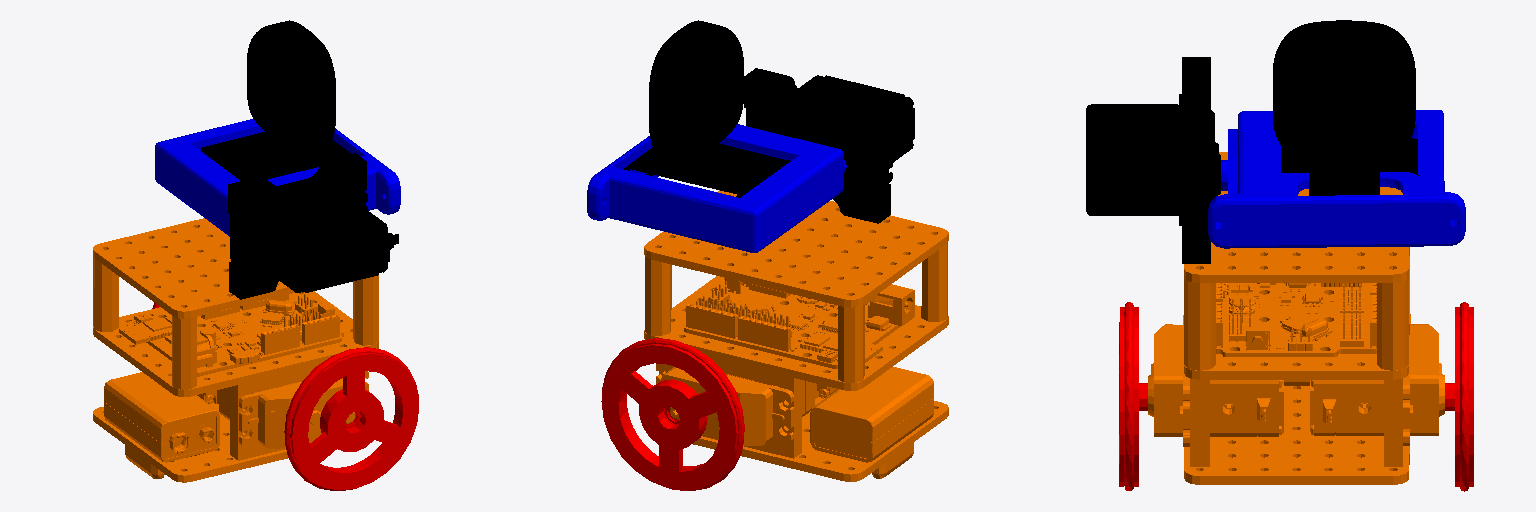
robot.urdf — cambot:
<!-- description of the CamBot robot, a robotics project for the UVic-UCC master in robotics first term -->
<robot name = "cambot">

	<!-- BASE-FOOTPRINT -->
	<!-- base_footprint is a fictitious link(frame) that is on the ground right below base_link origin, navigation stack depends on this frame -->
	<link name = "base_footprint"/>

	<joint name = "base_footprint_joint" type = "fixed">
		<parent link = "base_footprint"/>
		<child link = "base_link"/>
		<origin xyz = "0 0 0" rpy = "0 0 0"/>
	</joint>

	<!-- BASE-LINK -->
    <!--Actual body/chassis of the robot-->
	<link name = "base_link">
		<visual>
			<origin xyz = "0 0 0.12" rpy = "1.57 0 3.14"/>
			<geometry>
				<mesh filename = "package://cambot_description/meshes/cambot_base.stl"/>
			</geometry>
			<material name = "cambot/orange">
				<color rgba = "1.0 0.5 0.0 1.0"/>
			</material>
		</visual>
		<collision>
      		<origin xyz = "0 0 0.12" rpy = "1.57 0 3.14"/>
      		<geometry>
        		<mesh filename = "package://cambot_description/meshes/cambot_base_collision.stl" scale="0.01 0.01 0.01"/>
      		</geometry>
    	</collision>
		<inertial>
      		<origin rpy = "0 0 0" xyz = "-8.640e-3 236.599e-3 0.443e-3"/>
      		<mass value = "0.216"/>
      		<inertia ixx = "0.016258"
               ixy = "0.000432"
               ixz="-0.000049"
               iyy="0.019275"
               iyz="0.000048"
               izz="0.016834"/>
    	</inertial>
	</link>

	<joint name = "base_to_right_wheel" type = "continuous">
		<parent link = "base_link"/>
		<child link = "right_wheel_link"/>
		<origin xyz = "0.21 -0.50 0.28" rpy = "1.57 0 0"/>
		<axis xyz = "0 0 1"/>
	</joint>

	<joint name = "base_to_left_wheel" type = "continuous">
		<parent link = "base_link"/>
		<child link = "left_wheel_link"/>
		<origin xyz = "0.21 0.50 0.28" rpy = "-1.57 0 0"/>
		<axis xyz = "0 0 1"/>
	</joint>

	<joint name = "base_to_servo" type = "fixed">
		<parent link = "base_link" />
		<child link = "servo_link" />
		<origin xyz = "0.2 -0.21 1.035" rpy = "-1.57 0 0"/>
	</joint>	

	<!-- WHEEL-LINKS -->
    <!--Actual wheels of the robot-->
	<link name = "left_wheel_link">
		<visual>
			<origin xyz = "0 0 0.05" rpy = "0 -1.57 0" />
			<geometry>
				<mesh filename = "package://cambot_description/meshes/cambot_wheel.stl" />
			</geometry>
			<material name = "cambot/red">
				<color rgba = "1.0 0.0 0.0 1.0" />
			</material>
		</visual>
		<collision>
      		<origin xyz = "0 0 0.05" rpy = "0 -1.57 0" />
      		<geometry>
        		<mesh filename = "package://cambot_description/meshes/cambot_wheel_collision.stl" scale="0.01 0.01 0.01"/>
      		</geometry>
    	</collision>
		<inertial>
      		<origin rpy = "0 0 0" xyz = "-30.036e-3 0 0"/>
      		<mass value = "0.01311625"/>
      		<inertia ixx = "0.000481"
               ixy = "0.000000"
               ixz="0.000000"
               iyy="0.000244"
               iyz="0.000000"
               izz="0.000244"/>
    	</inertial>
	</link>

	<link name = "right_wheel_link">
		<visual>
			<origin xyz = "0 0 0.05" rpy = "0 -1.57 0" />
			<geometry>
				<mesh filename = "package://cambot_description/meshes/cambot_wheel.stl" />
			</geometry>
			<material name = "cambot/red">
				<color rgba = "1.0 0.0 0.0 1.0" />
			</material>
		</visual>
		<collision>
      		<origin xyz = "0 0 0.05" rpy = "0 -1.57 0" />
      		<geometry>
        		<mesh filename = "package://cambot_description/meshes/cambot_wheel_collision.stl" scale="0.01 0.01 0.01"/>
      		</geometry>
    	</collision>
		<inertial>
      		<origin rpy = "0 0 0" xyz = "-30.036e-3 0 0"/>
      		<mass value = "0.01311625"/>
      		<inertia ixx = "0.000481"
               ixy = "0.000000"
               ixz="0.000000"
               iyy="0.000244"
               iyz="0.000000"
               izz="0.000244"/>
    	</inertial>
	</link>

	<!-- SERVO-LINK -->
    <!--Actual servo of the robot responsible of the movement of the camera-->
	<link name = "servo_link">
		<visual>
			<origin xyz = "0 0 0" rpy = "0 0 3.14" />
			<geometry>
				<mesh filename = "package://cambot_description/meshes/cambot_servo.stl" />
			</geometry>
			<material name = "cambot/black">
				<color rgba = "0.0 0.0 0.0 1.0" />
			</material>
		</visual>
		<collision>
      		<origin xyz = "0 0 0" rpy = "0 0 3.14" />
      		<geometry>
        		<mesh filename = "package://cambot_description/meshes/cambot_servo_collision.stl" scale="0.01 0.01 0.01"/>
      		</geometry>
    	</collision>
		<!-- <inertial>
      		<origin rpy = "0 0 0" xyz = "105.286-3 -0.010e-3 -208.732e-3"/>
      		<mass value = "0.056861"/>
      		<inertia ixx = "0.001002"
               ixy = "0.000000"
               ixz="0.000013"
               iyy="0.001521"
               iyz="0.000000"
               izz="0.001247"/>
    	</inertial-->
	</link>

	<joint name = "servo_to_camera_support" type = "revolute">
		<limit effort="10.0" lower="-0.4" upper="0.4" velocity="0.5"/>
		<parent link = "servo_link" />
		<child link = "camera_support_link" />
		<origin xyz = "0 0 0" rpy = "0 0 0" />
		<axis xyz = "0 0 1" />
	</joint>

	<!-- CAMERA-SUPPORT-LINK -->
	<!-- Actual camera support coupled to the servo -->
	<link name = "camera_support_link">
		<visual>
			<origin xyz = "0 0 0" rpy = "0 -1.57 3.14" />
			<geometry>
				<mesh filename = "package://cambot_description/meshes/cambot_camera_support.stl" />
			</geometry>
			<material name = "cambot/blue">
				<color rgba = "0.0 0.0 255.0 1.0" />
			</material>
		</visual>
		<collision>
      		<origin xyz = "0 0 0" rpy = "0 -1.57 3.14" />
      		<geometry>
        		<mesh filename = "package://cambot_description/meshes/cambot_camera_support_collision.stl" scale="0.01 0.01 0.01"/>
      		</geometry>
    	</collision>
		<inertial>
      		<origin rpy = "0 0 0" xyz = "296.718e-3 -2.503e-3 -9.185e-3"/>
      		<mass value = "0.051725"/>
      		<inertia ixx = "0.001852"
               ixy = "0.00000"
               ixz="0.000153"
               iyy="0.003620"
               iyz="0.000000"
               izz="0.001951"/>
    	</inertial>
	</link>

	<joint name = "camera_support_to_camera" type = "fixed">
		<parent link = "camera_support_link" />
		<child link = "camera_link" />
		<origin xyz = "0.2 -0.35 0.35" rpy = "1.57 0 0"/>
	</joint>

	<!-- CAMERA-LINK -->
	<!-- Actual camera of the robot -->
	<link name = "camera_link">
		<visual>
			<origin xyz = "0 0 0" rpy = "1.57 0 1.57" />
			<geometry>
				<mesh filename = "package://cambot_description/meshes/cambot_camera.stl" />
			</geometry>
			<material name = "cambot/black">
				<color rgba = "0.0 0.0 0.0 1.0" />
			</material>
		</visual>
		<collision>
      		<origin xyz = "0 0 0" rpy = "1.57 0 1.57" />
      		<geometry>
        		<mesh filename = "package://cambot_description/meshes/cambot_camera_collision.stl" scale="0.01 0.01 0.01"/>
      		</geometry>
    	</collision>
		<inertial>
      		<origin rpy = "0 0 0" xyz = "7.035e-3 -70.134e-3 -87.744e-3"/>
      		<mass value = "0.0458425"/>
      		<inertia ixx = "0.001351"
               ixy = "0.000000"
               ixz="0.000000"
               iyy="0.000886"
               iyz="-0.000026"
               izz="0.001635"/>
    	</inertial>
	</link>
</robot>

--- Render facts (derived) ---
3 views of the same robot in one strip: view 1: azimuth 30°, elevation 25°; view 2: azimuth 150°, elevation 25°; view 3: azimuth 270°, elevation 25° (orthographic).
Model cambot with 7 links and 6 joints (1 revolute, 2 continuous, 3 fixed), rooted at base_footprint, posed all joints at 0.
Visible links, largest first — view 1: base_link, servo_link, camera_link, right_wheel_link, camera_support_link; view 2: base_link, camera_support_link, camera_link, left_wheel_link, servo_link; view 3: base_link, camera_link, camera_support_link, servo_link, right_wheel_link, left_wheel_link.
Boxes of the visible links, x1,y1,x2,y2 form: base_link: [93, 218, 378, 482]; servo_link: [228, 153, 398, 299]; camera_link: [201, 20, 351, 180]; right_wheel_link: [284, 347, 418, 490]; camera_support_link: [155, 119, 400, 236]; base_link: [644, 190, 948, 481]; camera_support_link: [587, 124, 846, 252]; camera_link: [624, 20, 790, 197]; left_wheel_link: [601, 338, 744, 490]; servo_link: [744, 68, 914, 223]; base_link: [1148, 152, 1444, 484]; camera_link: [1273, 20, 1418, 195]; camera_support_link: [1208, 110, 1465, 248]; servo_link: [1086, 57, 1220, 263]; right_wheel_link: [1119, 302, 1147, 490]; left_wheel_link: [1445, 302, 1473, 491].
Size in the robot's own frame: 1.02 by 1.21 by 1.62 metres.
6 mesh visuals loaded from 5 distinct referenced files (5 binary STL).
